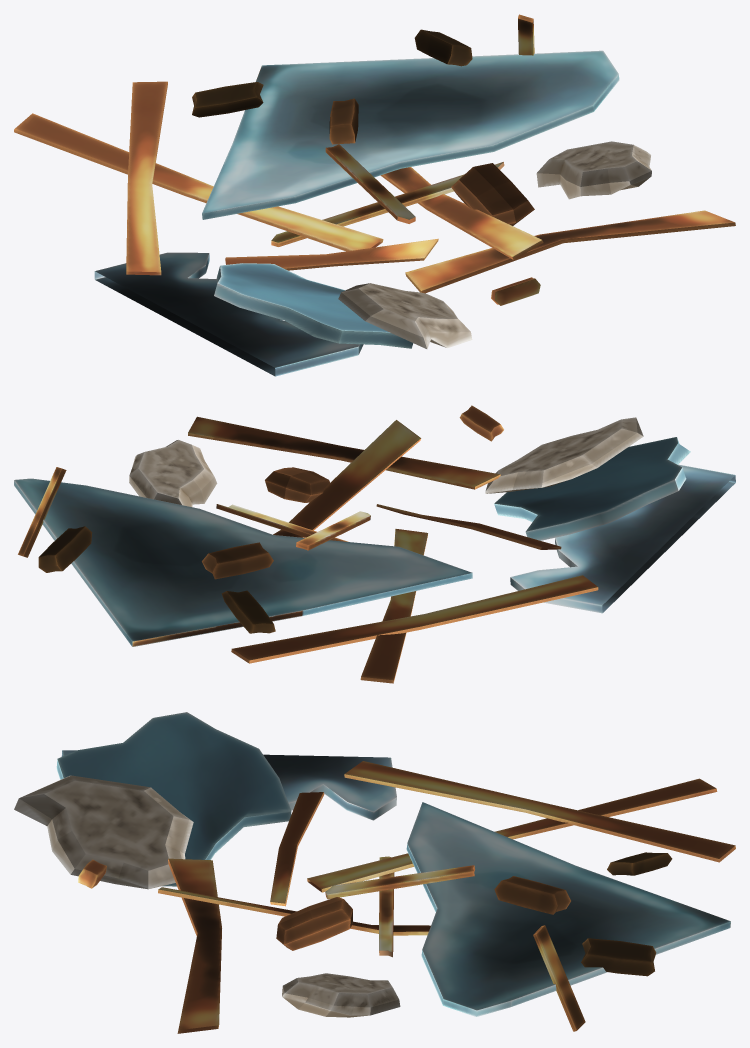
The model's file is Edificio_Ruinas_Suelo_02.FBX.
3 renders of one model, top to bottom at view 1: azimuth 30°, elevation 25°; view 2: azimuth 150°, elevation 25°; view 3: azimuth 270°, elevation 25°, orthographic. The views are drawn at different scales.
Visible parts, largest first — view 1: Edificio_Ruinas; view 2: Edificio_Ruinas; view 3: Edificio_Ruinas.
Part boxes in pixels (box(x1,y1,x2,y2)): Edificio_Ruinas: box(14, 14, 735, 376); Edificio_Ruinas: box(14, 405, 735, 683); Edificio_Ruinas: box(14, 712, 735, 1033).
Bounding box in the file's own units: 18.66 × 3.29 × 20.13.
